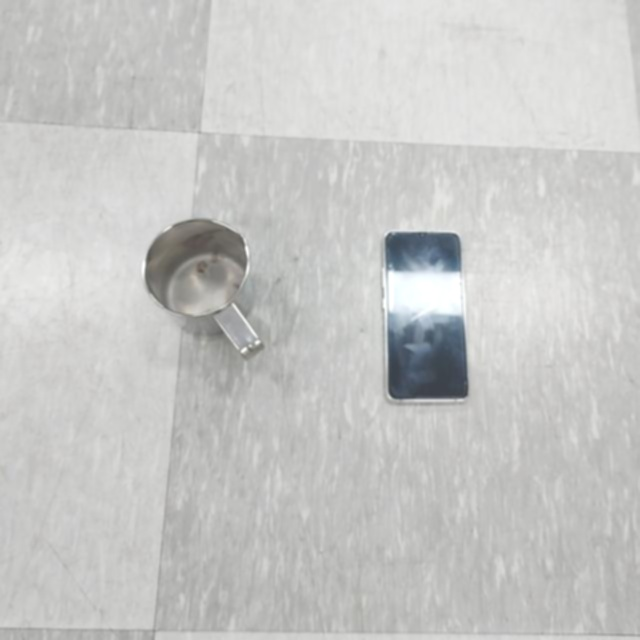cup: (144, 216, 266, 362)
phone: (379, 230, 473, 405)
